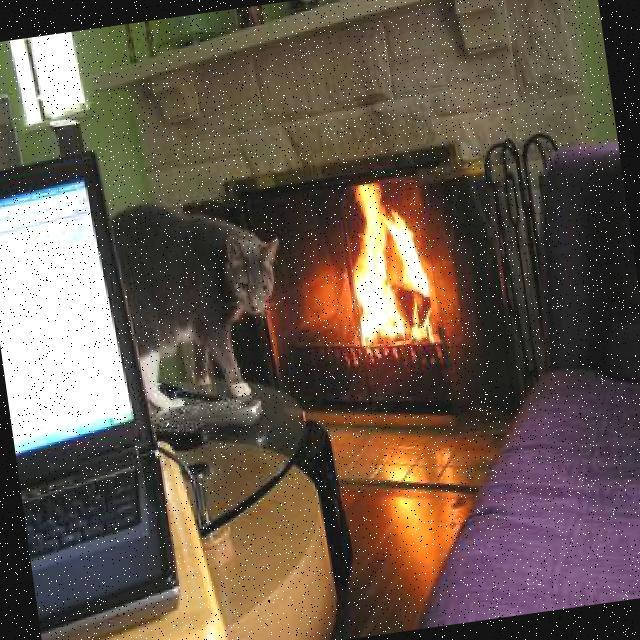Fire: (332, 175, 442, 361)
